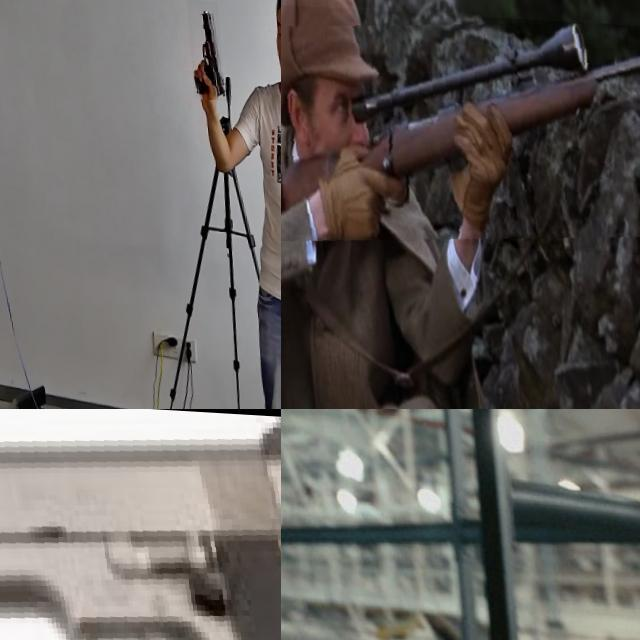gun-knife-thesis - v11 Yolov5 augmented: (281, 0, 640, 253), (0, 409, 281, 640), (184, 0, 221, 97)
